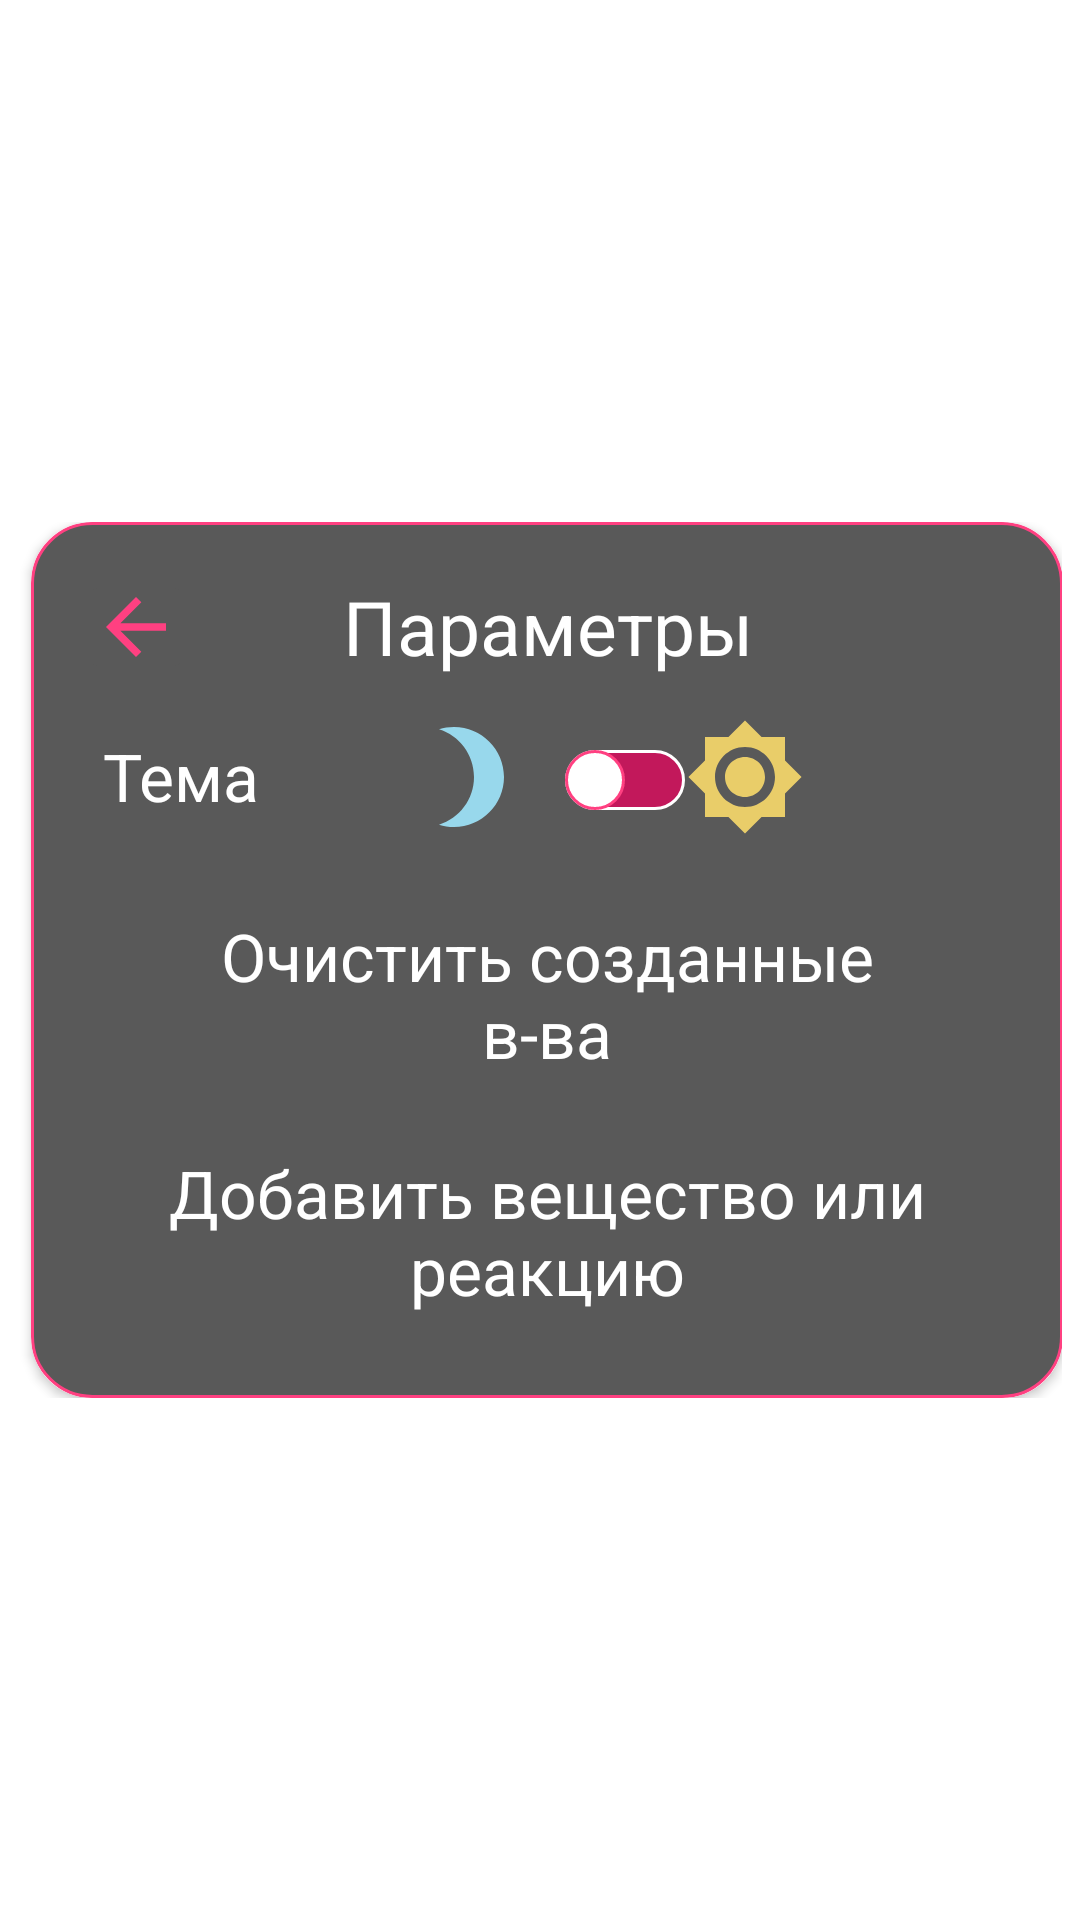

Icon bounding boxes for this 1080w x 1920h phone screenshot, format rect(x1, y1, x2, y2):
arrow back: rect(106, 597, 166, 657)
brightness high: rect(689, 721, 801, 833)
